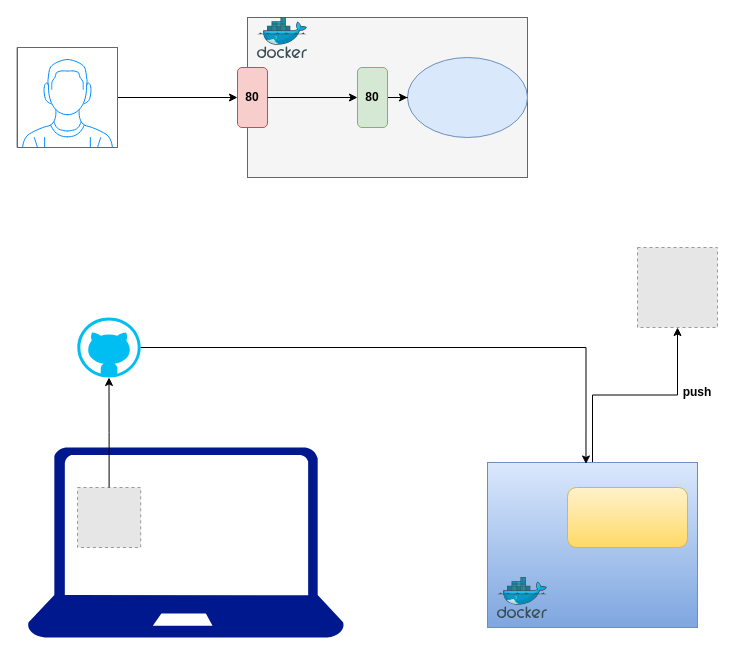
Image size: 745x655. Some labels were removed from this diagram. Grey dashed boxes stand in for pictures. Each missing label, with the centre of its shape:
"container" belongs at (467,97).
"local repo" belongs at (627,517).
